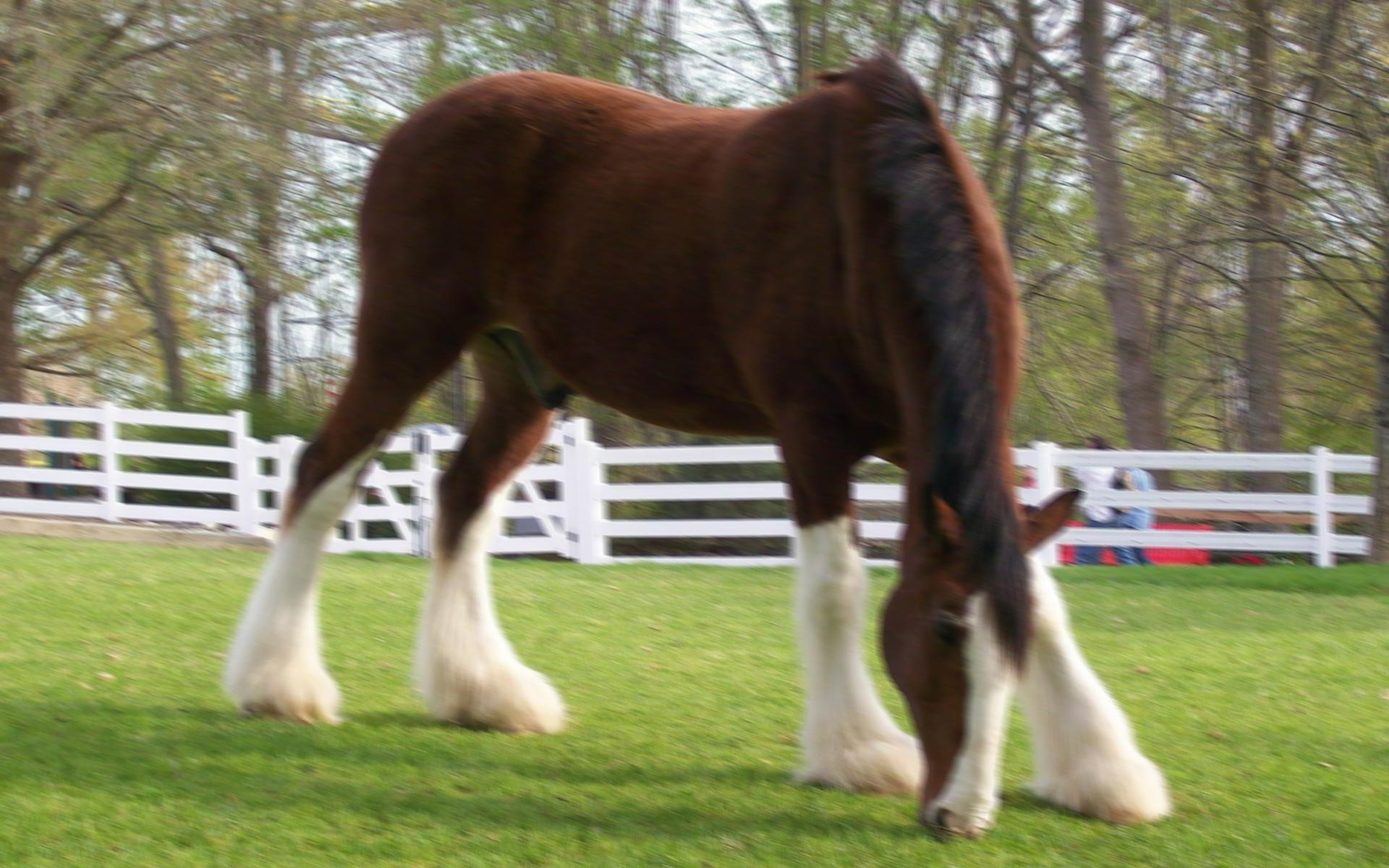horse: (209, 56, 1185, 850)
